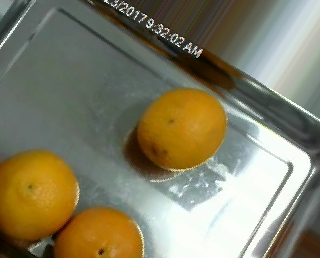Orange: (135, 88, 226, 170), (0, 150, 79, 239), (56, 207, 145, 258)
